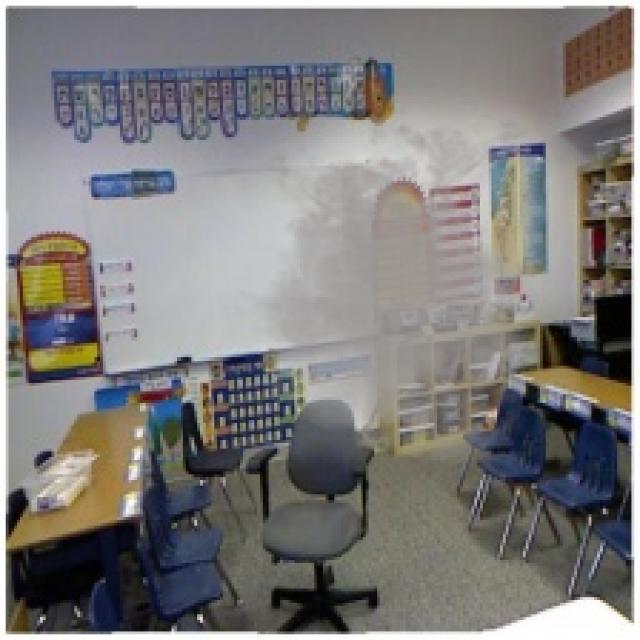smoke: (195, 97, 594, 469)
